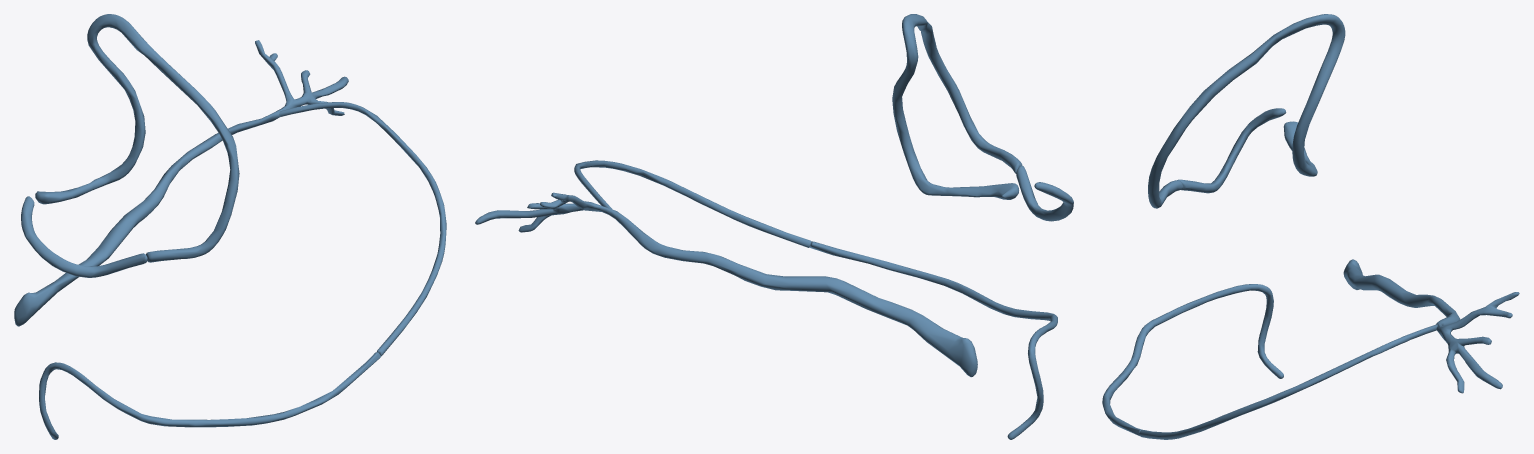
Rendered from portal-veins.glb.
The picture shows the model from 3 angles, left to right: view 1: azimuth 30°, elevation 25°; view 2: azimuth 150°, elevation 25°; view 3: azimuth 270°, elevation 25°; orthographic projection. The views are drawn at different scales.
Parts seen in each view (by area): view 1: FMA15399, FMA14331, FMA15397, FMA15390, FMA15400; view 2: FMA14331, FMA15399, FMA15397, FMA15390, FMA15400; view 3: FMA15399, FMA14331, FMA15397, FMA15390, FMA15400.
Boxes of the visible parts, box(x1,y1,x2,y2) form: FMA15399: box(35, 14, 239, 262); FMA14331: box(14, 40, 348, 326); FMA15397: box(39, 352, 380, 439); FMA15390: box(279, 102, 446, 356); FMA15400: box(21, 196, 147, 277); FMA14331: box(475, 192, 977, 377); FMA15399: box(892, 14, 1022, 199); FMA15397: box(810, 241, 1057, 439); FMA15390: box(574, 160, 811, 247); FMA15400: box(1016, 165, 1073, 221); FMA15399: box(1148, 14, 1345, 208); FMA14331: box(1343, 259, 1519, 393); FMA15397: box(1102, 284, 1283, 435); FMA15390: box(1139, 324, 1437, 439); FMA15400: box(1177, 108, 1286, 193).
Size of the model in its own units: 1.23 by 1.04 by 0.9724.
